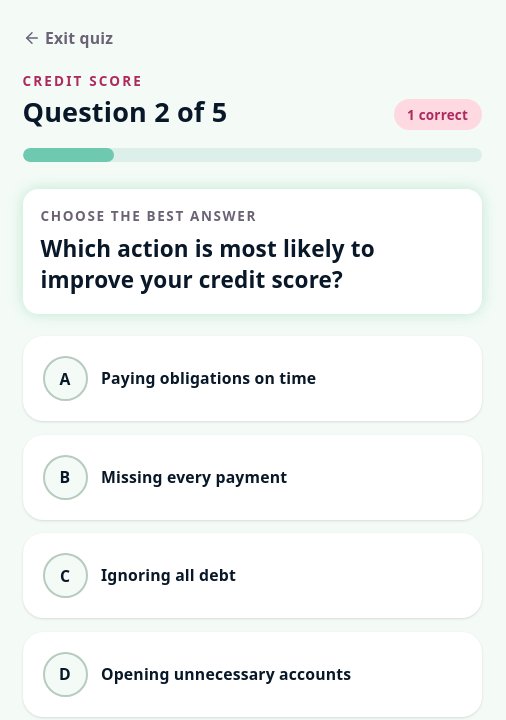
Scenario: QuizQuestionPage › keeps the submit button disabled until an option is selected
Click the button "A Paying obligations on time" at [252, 379], box 22,336 -> 482,421
(page scrolled)
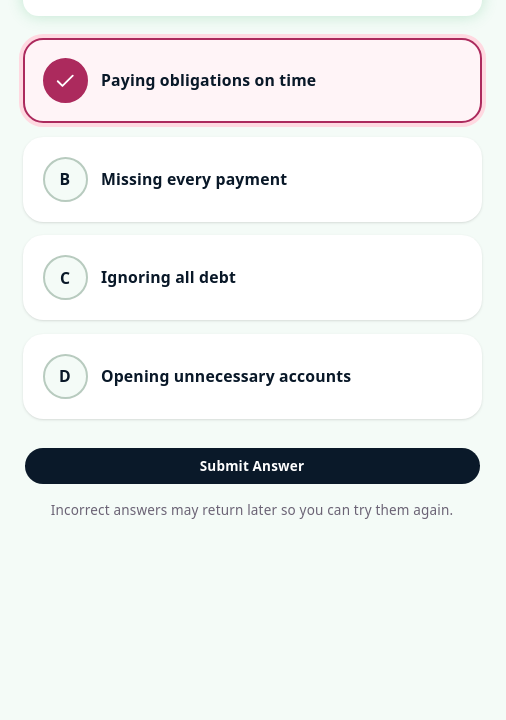
expect the button "Submit Answer" is enabled: met, box 22,446 -> 482,486
